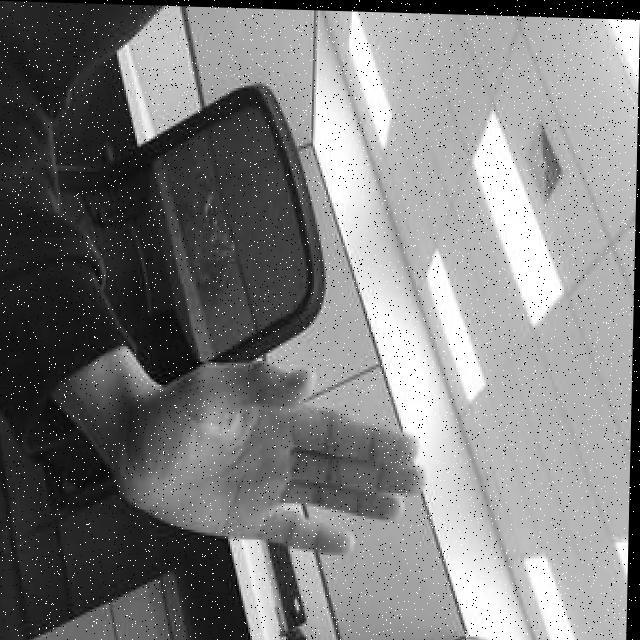no-gloves: (125, 352, 438, 560)
